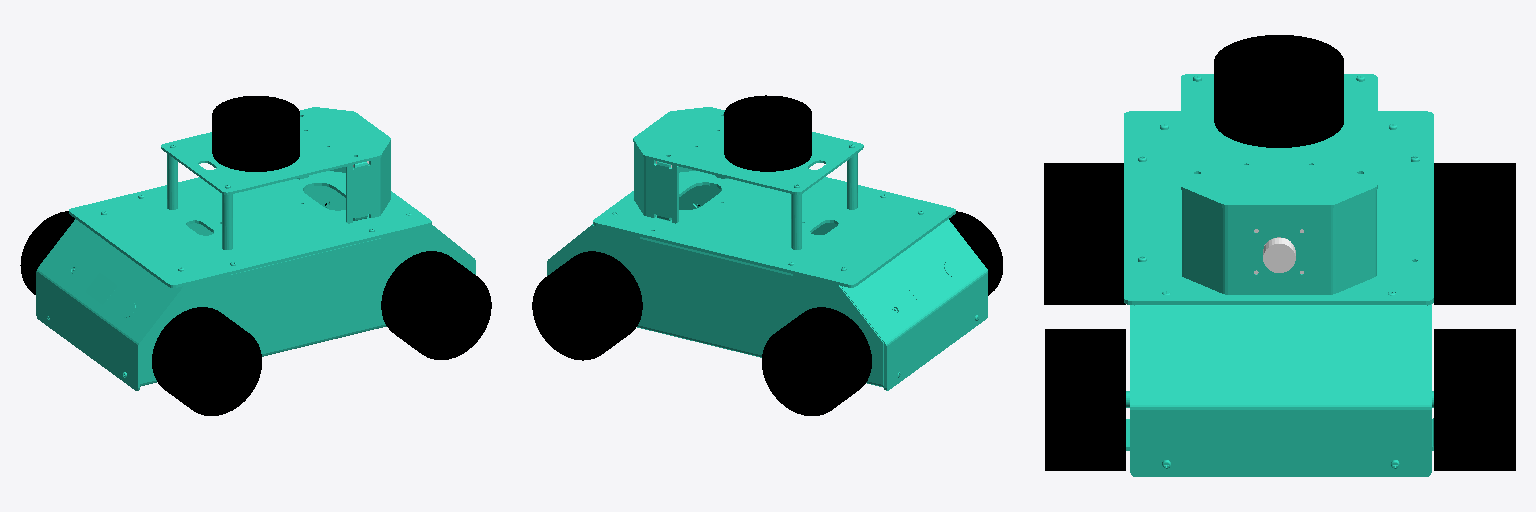
The robot description file, URDF, robot "abot_model":
<?xml version="1.0" encoding="utf-8"?>
<robot
  name="abot_model">
<!--*****************base_link************************-->
  <link
    name="base_link">
    <inertial>
      <origin
        xyz="0.0037371271395169 0.000509597410569076 0.0628578663830573"
        rpy="0 0 0" />
      <mass
        value="0.734774769093734" />
      <inertia
        ixx="0.00304079703267396"
        ixy="6.73701058783062E-08"
        ixz="-6.50029706905171E-08"
        iyy="0.0044781909611876"
        iyz="-1.06452904751068E-07"
        izz="0.00669492338035859" />
    </inertial>
    <visual>
      <origin
        xyz="0 0 0"
        rpy="0 0 0" />
      <geometry>
        <mesh
          filename="package://abot_model/meshes/base_link.STL" />
      </geometry>
      <material
        name="">
        <color
           rgba=" 0.22352 0.89019 0.77647 1" />
      </material>
    </visual>
    <collision>
      <origin
        xyz="0 0 0"
        rpy="0 0 0" />
      <geometry>
        <mesh
          filename="package://abot_model/meshes/base_link.STL" />
      </geometry>
    </collision>
  </link>

<gazebo reference="base_link">
    <material>Gazebo/Blue</material>
</gazebo>
<!--***************link_left_w**************************-->
  <link
    name="link_left_w">
    <inertial>
      <origin
        xyz="-2.9684E-05 0.011721 -0.000134"
        rpy="0 0 0" />
      <mass
        value="0.17861" />
      <inertia
        ixx="0.00013111"
        ixy="1.88E-20"
        ixz="-2.588E-10"
        iyy="0.00019458"
        iyz="7.7371E-21"
        izz="0.00013112" />
    </inertial>
    <visual>
      <origin
        xyz="0 0 0"
        rpy="0 0 0" />
      <geometry>
        <mesh
          filename="package://abot_model/meshes/link_left_w.STL" />
      </geometry>
      <material
        name="">
        <color rgba="0 0 0 0.95"/>
      </material>
    </visual>
    <collision>
      <origin
        xyz="0 0 0"
        rpy="0 0 0" />
      <geometry>
        <mesh
          filename="package://abot_model/meshes/link_left_w.STL" />
      </geometry>
    </collision>
  </link>
<gazebo reference="link_left_w">
    <material>Gazebo/Grey</material>
</gazebo>
<!--***************joint_left_w*************************-->
  <joint
    name="joint_left_w"
    type="continuous">
    <origin
      xyz="0.12024 0.10802 0.028264"
      rpy="0 0 0" />
    <parent
      link="base_link" />
    <child
      link="link_left_w" />
    <axis
      xyz="0 1 0" />
    <limit
      lower="-3.14"
      upper="3.14"
      effort="100"
      velocity="0" />
    <safety_controller
      k_velocity="0" />
  </joint>
<!--*****************link_left_s************************-->
  <link
    name="link_left_s">
    <inertial>
      <origin
        xyz="0.00125052664950205 0.00847211983876833 -0.000229470863907809"
        rpy="0 0 0" />
      <mass
        value="0.178614693254775" />
      <inertia
        ixx="0.00013111186774341"
        ixy="2.1852675113639E-21"
        ixz="-2.58804125525198E-10"
        iyy="0.000194584383981263"
        iyz="7.23887751890145E-21"
        izz="0.000131123764185488" />
    </inertial>
    <visual>
      <origin
        xyz="0 0 0"
        rpy="0 0 0" />
      <geometry>
        <mesh
          filename="package://abot_model/meshes/link_left_s.STL" />
      </geometry>
      <material
        name="">
        <color rgba="0 0 0 0.95"/>
      </material>
    </visual>
    <collision>
      <origin
        xyz="0 0 0"
        rpy="0 0 0" />
      <geometry>
        <mesh
          filename="package://abot_model/meshes/link_left_s.STL" />
      </geometry>
    </collision>
  </link>
<gazebo reference="link_left_s">
    <material>Gazebo/Grey</material>
</gazebo>
<!--*****************joint_left_s************************-->
  <joint
    name="joint_left_s"
    type="continuous">
    <origin
      xyz="-0.12144 0.11128 0.028375"
      rpy="0 0 0" />
    <parent
      link="base_link" />
    <child
      link="link_left_s" />
    <axis
      xyz="0 1 0" />
    <limit
      lower="-3.14"
      upper="3.14"
      effort="100"
      velocity="0" />
    <safety_controller
      k_velocity="0" />
  </joint>
<!--****************link_right_w*************************-->
  <link
    name="link_right_w">
    <inertial>
      <origin
        xyz="-2.56394994314069E-05 -0.00965975962140743 -8.89294989246357E-05"
        rpy="0 0 0" />
      <mass
        value="0.178614693254775" />
      <inertia
        ixx="0.000131111867743409"
        ixy="-1.43666298330474E-21"
        ixz="-2.58804125525959E-10"
        iyy="0.000194584383981263"
        iyz="1.54361367158865E-21"
        izz="0.000131123764185487" />
    </inertial>
    <visual>
      <origin
        xyz="0 0 0"
        rpy="0 0 0" />
      <geometry>
        <mesh
          filename="package://abot_model/meshes/link_right_w.STL" />
      </geometry>
      <material
        name="">
        <color rgba="0 0 0 0.95"/>
      </material>
    </visual>
    <collision>
      <origin
        xyz="0 0 0"
        rpy="0 0 0" />
      <geometry>
        <mesh
          filename="package://abot_model/meshes/link_right_w.STL" />
      </geometry>
    </collision>
  </link>
<gazebo reference="link_right_w">
    <material>Gazebo/Grey</material>
</gazebo>
<!--******************joint_right_w***********************-->
  <joint
    name="joint_right_w"
    type="continuous">
    <origin
      xyz="0.12024 -0.10899 0.028264"
      rpy="0 0 0" />
    <parent
      link="base_link" />
    <child
      link="link_right_w" />
    <axis
      xyz="0 1 0" />
    <limit
      lower="-3.14"
      upper="3.14"
      effort="100"
      velocity="0" />
    <safety_controller
      k_velocity="0" />
  </joint>
<!--******************link_right_s***********************-->
  <link
    name="link_right_s">
    <inertial>
      <origin
        xyz="-1.7496E-07 -0.011748 8.117E-06"
        rpy="0 0 0" />
      <mass
        value="0.17861" />
      <inertia
        ixx="0.00013111"
        ixy="5.8527E-21"
        ixz="-2.588E-10"
        iyy="0.00019458"
        iyz="-3.2413E-21"
        izz="0.00013112" />
    </inertial>
    <visual>
      <origin
        xyz="0 0 0"
        rpy="0 0 0" />
      <geometry>
        <mesh
          filename="package://abot_model/meshes/link_right_s.STL" />
      </geometry>
      <material
        name="">
       <color rgba="0 0 0 0.95"/>
      </material>
    </visual>
    <collision>
      <origin
        xyz="0 0 0"
        rpy="0 0 0" />
      <geometry>
        <mesh
          filename="package://abot_model/meshes/link_right_s.STL" />
      </geometry>
    </collision>
  </link>
<gazebo reference="link_right_s">
    <material>Gazebo/Grey</material>
</gazebo>
<!--******************joint_right_s***********************-->
  <joint
    name="joint_right_s"
    type="continuous">
    <origin
      xyz="-0.12024 -0.10696 0.028161"
      rpy="0 0 0" />
    <parent
      link="base_link" />
    <child
      link="link_right_s" />
    <axis
      xyz="0 1 0" />
    <limit
      lower="-3.14"
      upper="3.14"
      effort="100"
      velocity="0" />
    <safety_controller
      k_velocity="0" />
  </joint>

<!--***************camera_link**************************-->
  <link
    name="camera_link">
    <inertial>
      <origin
        xyz="0 0 0"
        rpy="0 0 0" />
      <mass
        value="0" />
      <inertia
        ixx="0"
        ixy="0"
        ixz="0"
        iyy="0"
        iyz="0"
        izz="0" />
    </inertial>
    <visual>
      <origin
        xyz="0 0 0"
        rpy="0 0 0" />
      <geometry>
        <mesh
          filename="package://abot_model/meshes/camera_link.STL" />
      </geometry>
      <material
        name="">
        <color
          rgba="1 1 1 1" />
      </material>
    </visual>
    <collision>
      <origin
        xyz="0 0 0"
        rpy="0 0 0" />
      <geometry>
        <mesh
          filename="package://abot_model/meshes/camera_link.STL" />
      </geometry>
    </collision>
  </link>
<gazebo reference="camera_link">
    <material>Gazebo/Grey</material>
</gazebo>
<!--****************joint_camera*************************-->
  <joint
    name="joint_camera"
    type="fixed">
    <origin
      xyz="0.130670132360421 0.000184007776624636 0.128393640072318"
      rpy="0 0 0" />
    <parent
      link="base_link" />
    <child
      link="camera_link" />
    <axis
      xyz="0 0 0" />
    <safety_controller
      k_velocity="0" />
  </joint>

<!--****************************laser_link**************************************-->
<link name="laser_link">
	<visual>
	  <origin xyz="0 0 0" rpy="0 0 0"/>
	  <geometry>
		<cylinder radius="0.04" length="0.040"/>
 	  </geometry>
	  <material name="black">
	  	<color rgba="0 0 0 0.95"/> 
	  </material>
	</visual>	
</link>
<gazebo reference="laser_link">
    <material>Gazebo/Black</material>
</gazebo>
<!--****************************laser_joint**************************************-->
	<joint name="laser_joint" type="fixed">
		<origin xyz="0 0 0.18" rpy="0 0 0"/>	
		<parent link="base_link"/>
		<child link="laser_link"/>
	</joint>
<!--*********************************base_footprint********************************** -->
	<link name="base_footprint">
	    <visual>
		<origin xyz="0 0 0" rpy="0 0 0" />
		<geometry>
		    <box size="0.001 0.001 0.001" />
		</geometry>
	    </visual>
	</link>
<!--*********************************base_footprint_joint********************************** -->
	<joint name="base_footprint_joint" type="fixed">
	    <origin xyz="0 0 0" rpy="0 0 0" />        
	    <parent link="base_footprint"/>
	    <child link="base_link" />
	</joint>
	<gazebo reference="base_footprint_joint">
	    <turnGravityOff>false</turnGravityOff>
	</gazebo>
<!--*********************************base_imu********************************** -->
	<link name="base_imu">
	    <visual>
		<origin xyz="0.001 0 0" rpy="0 0 0" />
		<geometry>
		    <box size="0.001 0.001 0.001" />
		</geometry>
	    </visual>
	</link>
<!--*********************************imu_joint********************************** -->
	<joint name="imu_joint" type="fixed">
	    <origin xyz="0 0 0" rpy="0 0 0" />        
	    <parent link="base_link"/>
	    <child link="base_imu" />
	</joint>
	<gazebo reference="imu_joint">
	    <turnGravityOff>false</turnGravityOff>
	</gazebo>
<!--****************************laser_joint**************************************-->
<gazebo reference="laser_link">
    <sensor type="ray" name="rplidar">
      <pose>0 0 0 0 0 0</pose>
      <visualize>true</visualize>
      <update_rate>5.5</update_rate>
      <ray>
        <scan>
          <horizontal>
            <samples>360</samples>
            <resolution>1</resolution>
            <min_angle>-3.14</min_angle>
            <max_angle>3.14</max_angle>
          </horizontal>
        </scan>
        <range>
          <min>0.10</min>
          <max>12.0</max>
          <resolution>0.01</resolution>
        </range>
        <noise>
          <type>gaussian</type>
          <mean>0.0</mean>
          <stddev>0.01</stddev>
        </noise>
      </ray>
      <plugin name="gazebo_rplidar" filename=
"libgazebo_ros_laser.so">
        <topicName>/scan</topicName>
        <frameName>laser_link</frameName>
      </plugin>
    </sensor>
  </gazebo>
<!--********************************* camera gazebo**********************************-->
      <gazebo reference="camera_link">
        <sensor type="camera" name="camera1">
          <update_rate>100</update_rate>
          <camera name="head">
            <horizontal_fov>1.3962634</horizontal_fov>
            <image>
              <width>800</width>
              <height>800</height>
              <format>R8G8B8</format>
            </image>
            <clip>
              <near>0.02</near>
              <far>300</far>
            </clip>
            <noise>
              <type>gaussian</type>
              <mean>0.0</mean>
              <stddev>0.007</stddev>
            </noise>
          </camera>
          <plugin name="camera_controller" filename="libgazebo_ros_camera.so">
           <alwaysOn>true</alwaysOn>
            <updateRate>0.0</updateRate>
            <cameraName>camera</cameraName>
            <imageTopicName>image</imageTopicName>
            <cameraInfoTopicName>camera_info</cameraInfoTopicName>
            <frameName>camera_link</frameName>
            <hackBaseline>0.07</hackBaseline>
            <distortionK1>0.0</distortionK1>
            <distortionK2>0.0</distortionK2>
            <distortionK3>0.0</distortionK3>
            <distortionT1>0.0</distortionT1>
            <distortionT2>0.0</distortionT2>
          </plugin>
        </sensor>
      </gazebo>

 <gazebo>
  <plugin name="skid_steer_drive_controller" filename="libgazebo_ros_skid_steer_drive.so">

    <alwaysOn>true</alwaysOn>
    <robotNamespace>/</robotNamespace>
    <updateRate>100</updateRate>
    <leftFrontJoint>joint_left_w</leftFrontJoint>
    <rightFrontJoint>joint_right_w</rightFrontJoint>
    <leftRearJoint>joint_left_s</leftRearJoint>
    <rightRearJoint>joint_right_s</rightRearJoint>

    <wheelSeparation>0.090</wheelSeparation> 
    <wheelDiameter>0.090</wheelDiameter>
    <torque>1</torque>
    <commandTopic>cmd_vel</commandTopic>
    <odometryTopic>odom</odometryTopic>
    <odometryFrame>odom</odometryFrame>
    <robotBaseFrame>base_footprint</robotBaseFrame>
    <broadcastTF>1</broadcastTF> 

  </plugin>
</gazebo>
</robot>

--- What the picture shows (computed from the rendered views, not written in the file) ---
The picture shows the robot from 3 angles, left to right: view 1: azimuth 30°, elevation 25°; view 2: azimuth 150°, elevation 25°; view 3: azimuth 270°, elevation 25°; orthographic projection.
Robot: abot_model — 9 links, 8 joints (4 continuous, 4 fixed); root link base_footprint; default pose: all joints at 0.
Visible links, largest first — view 1: base_link, link_right_w, link_right_s, laser_link, link_left_s; view 2: base_link, link_left_w, link_left_s, laser_link, link_right_s; view 3: base_link, laser_link, link_left_w, link_left_s, link_right_w, link_right_s, camera_link.
Boxes of the visible links, bbox=[...] form: base_link: bbox=[36, 107, 475, 390]; link_right_w: bbox=[381, 251, 491, 359]; link_right_s: bbox=[152, 307, 261, 415]; laser_link: bbox=[212, 96, 299, 171]; link_left_s: bbox=[20, 211, 74, 294]; base_link: bbox=[547, 107, 987, 390]; link_left_w: bbox=[532, 251, 642, 360]; link_left_s: bbox=[762, 307, 871, 415]; laser_link: bbox=[724, 95, 811, 171]; link_right_s: bbox=[949, 211, 1002, 295]; base_link: bbox=[1124, 74, 1433, 476]; laser_link: bbox=[1214, 35, 1343, 147]; link_left_w: bbox=[1434, 329, 1515, 470]; link_left_s: bbox=[1434, 163, 1515, 304]; link_right_w: bbox=[1045, 329, 1125, 470]; link_right_s: bbox=[1044, 163, 1125, 304]; camera_link: bbox=[1254, 229, 1303, 274].
Bounding box of the posed robot: 0.3591 × 0.2885 × 0.2153 m (x, y, z).
Meshes: 6 distinct files referenced, 6 mesh visuals loaded (6 binary STL).
